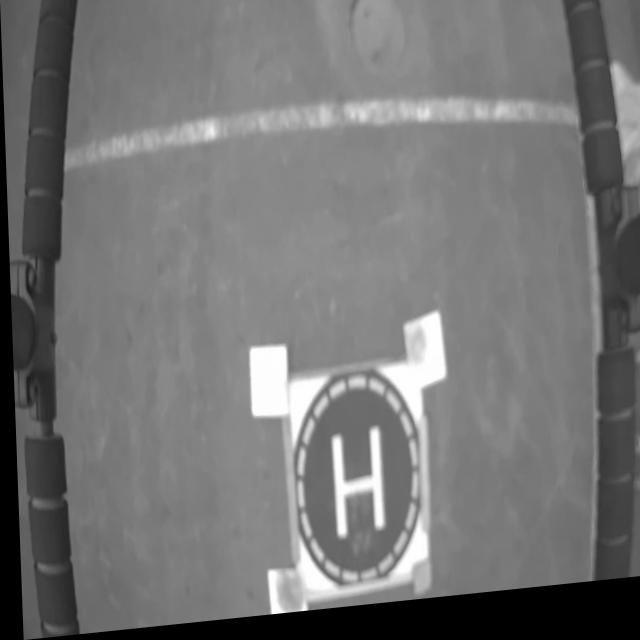Helipad: (326, 431, 381, 547)
